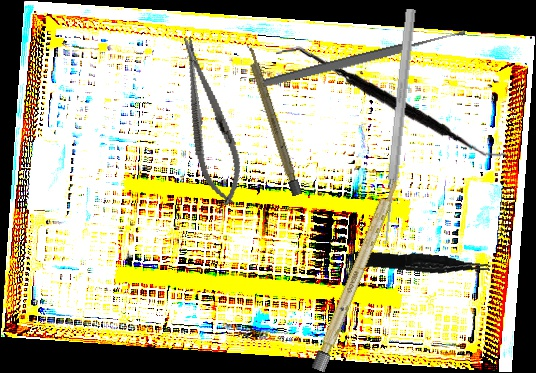Needle Holder: (167, 31, 251, 210)
Pusher: (378, 8, 418, 245)
Scalpel Handle: (311, 175, 402, 373), (243, 43, 303, 197)
Spatula Surgical: (275, 32, 508, 176)
Surgical Spoon: (262, 27, 467, 89)
Tissue Forceps: (353, 245, 492, 283)
